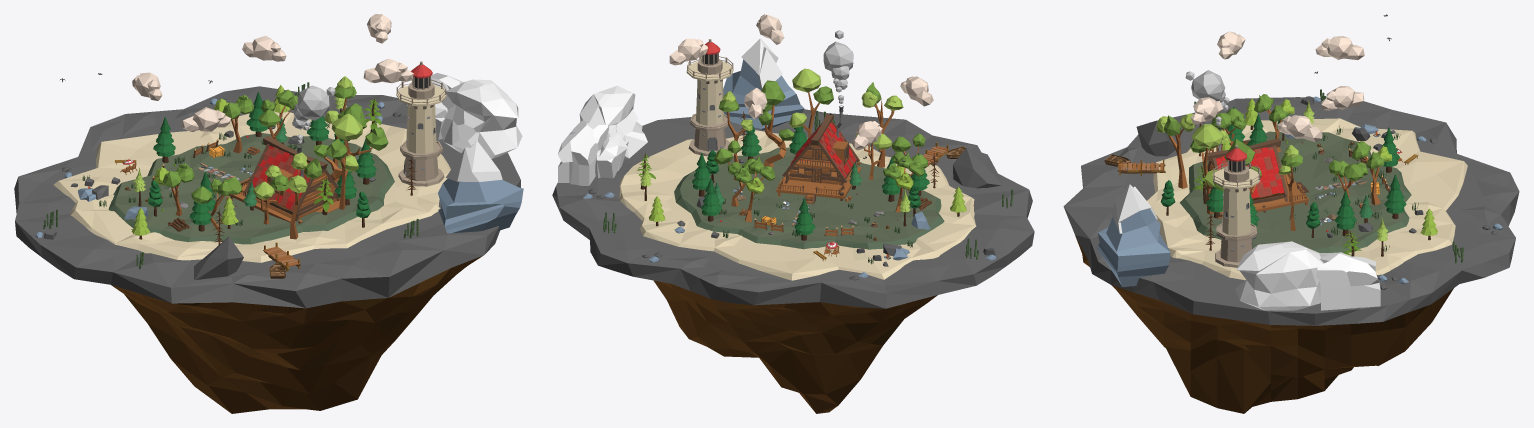
Rendered from Floating Port.glb.
3 renders of one model, left to right at view 1: azimuth 30°, elevation 25°; view 2: azimuth 150°, elevation 25°; view 3: azimuth 270°, elevation 25°, orthographic. The views are drawn at different scales.
Visible parts, largest first — view 1: Floting Base, Rock, Big Rock, Light House, M_House, Tree, M_Tree 5, M_Smoke, M_Tree 6, M_Tree_4, M_Tree 1-1, M_Tree 2 (+12 smaller); view 2: Floting Base, Big Rock, Rock, M_House, Light House, M_Tree 5, M_Tree 6, M_Smoke, Tree, M_Tree 3-1, M_Tree 3, M_Tree_4 (+12 smaller); view 3: Floting Base, Big Rock, Rock, Light House, M_House, Tree, M_Tree 5, M_Smoke, M_Tree_4, M_Tree 3-1, M_Cloud-1, M_Cloud-2 (+11 smaller).
Boxes of the visible parts, bbox=[...] form: Floting Base: bbox=[14, 86, 520, 413]; Rock: bbox=[84, 98, 523, 279]; Big Rock: bbox=[407, 73, 522, 158]; Light House: bbox=[396, 61, 446, 186]; M_House: bbox=[228, 135, 339, 223]; Tree: bbox=[148, 97, 381, 228]; M_Tree 5: bbox=[326, 113, 362, 209]; M_Smoke: bbox=[292, 85, 335, 143]; M_Tree 6: bbox=[313, 103, 388, 182]; M_Tree_4: bbox=[287, 152, 321, 239]; M_Tree 1-1: bbox=[191, 177, 241, 230]; M_Tree 2: bbox=[253, 165, 288, 224]; Floting Base: bbox=[552, 109, 1034, 413]; Big Rock: bbox=[557, 85, 647, 185]; Rock: bbox=[642, 38, 1003, 260]; M_House: bbox=[776, 105, 861, 204]; Light House: bbox=[686, 39, 733, 156]; M_Tree 5: bbox=[789, 68, 833, 138]; M_Tree 6: bbox=[759, 80, 794, 167]; M_Smoke: bbox=[823, 30, 853, 103]; Tree: bbox=[636, 126, 920, 216]; M_Tree 3-1: bbox=[734, 156, 775, 221]; M_Tree 3: bbox=[883, 152, 924, 212]; M_Tree_4: bbox=[861, 82, 903, 167]; Floting Base: bbox=[1063, 97, 1519, 413]; Big Rock: bbox=[1235, 241, 1380, 310]; Rock: bbox=[1097, 120, 1497, 287]; Light House: bbox=[1212, 145, 1260, 267]; M_House: bbox=[1199, 127, 1308, 218]; Tree: bbox=[1206, 114, 1387, 256]; M_Tree 5: bbox=[1190, 124, 1223, 214]; M_Smoke: bbox=[1185, 70, 1229, 125]; M_Tree_4: bbox=[1156, 113, 1195, 188]; M_Tree 3-1: bbox=[1351, 141, 1391, 205]; M_Cloud-1: bbox=[1315, 36, 1364, 60]; M_Cloud-2: bbox=[1277, 115, 1322, 142].
Size of the model in its own units: 31.88 by 23.88 by 27.85.
Materials: 1 (1 with a texture image).
